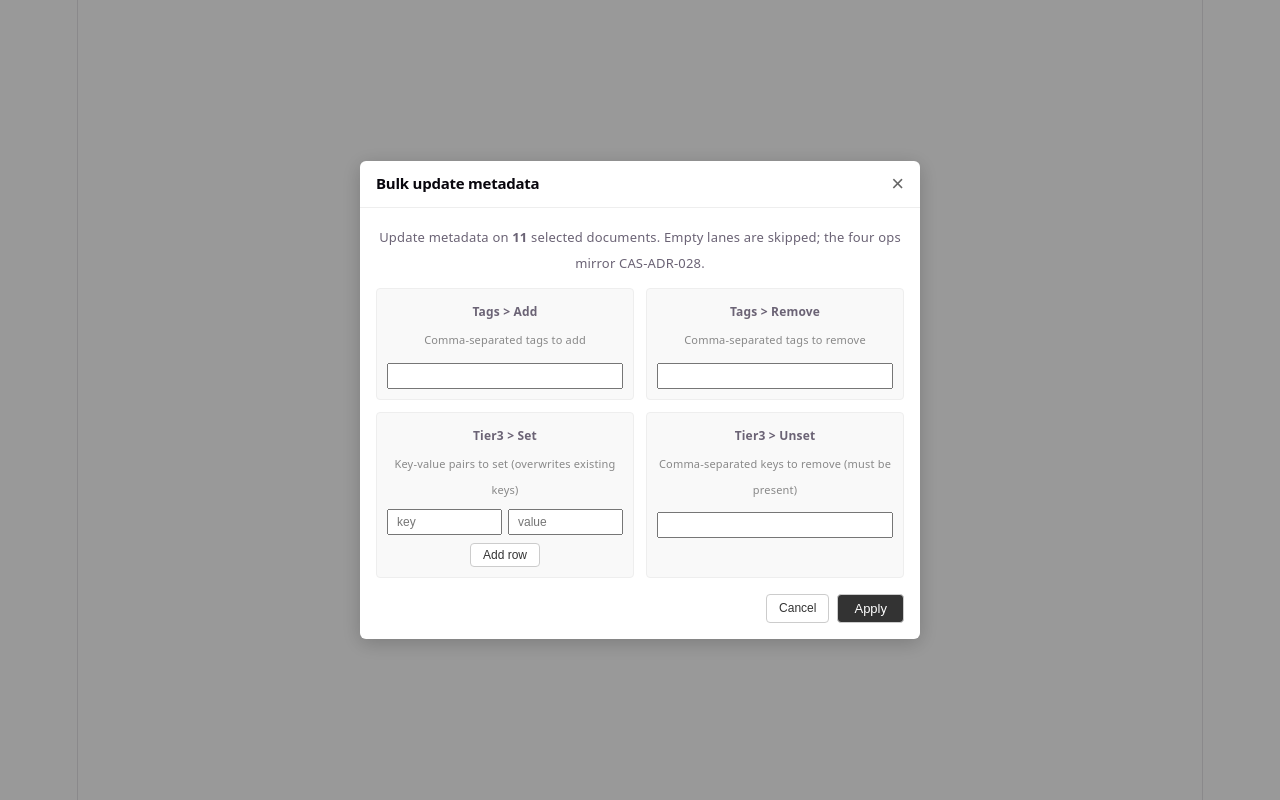
BulkMetadataDialog › shows confirmation step for selections > 10
This screenshot has width=1280, height=800.
Type "bulk-test" into the field named "Tags to add" at (505,376), box [387,362,623,388]
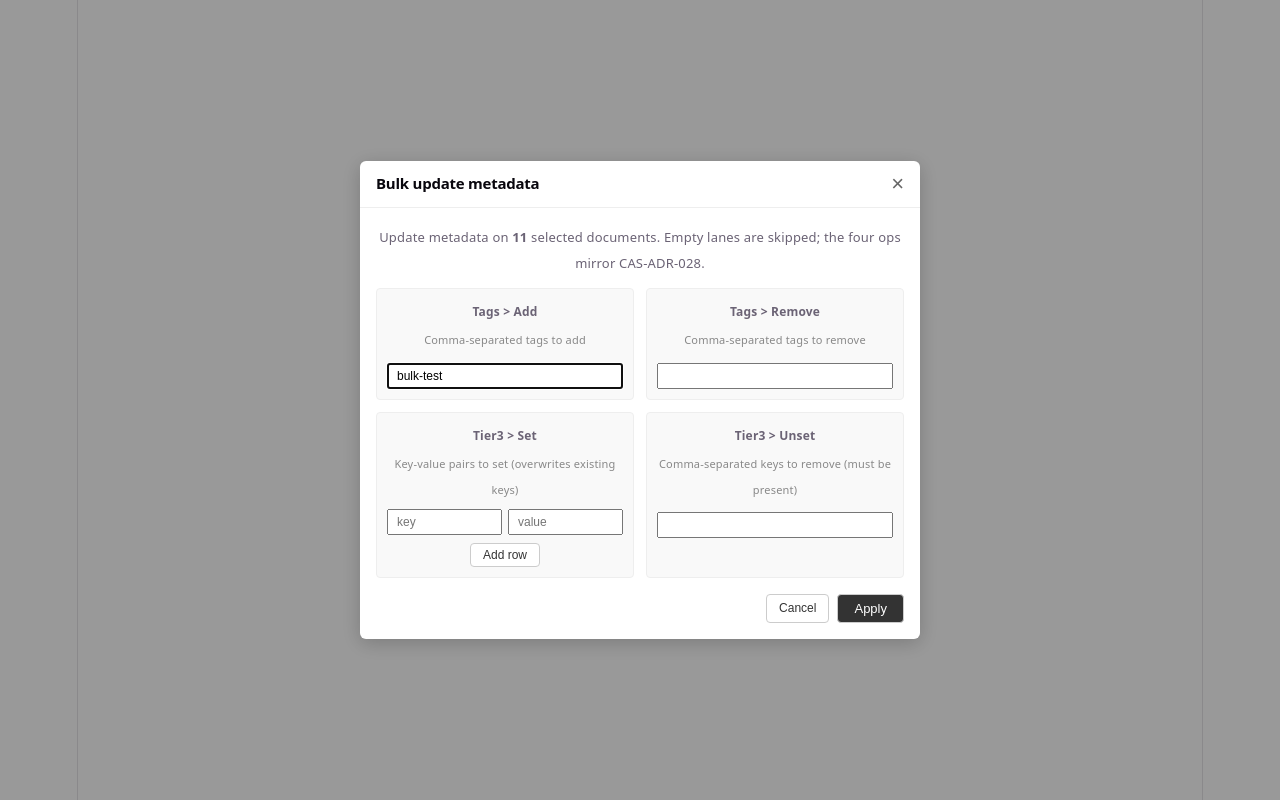
Click the button "Apply" at (871,608), box [838,594,904,623]
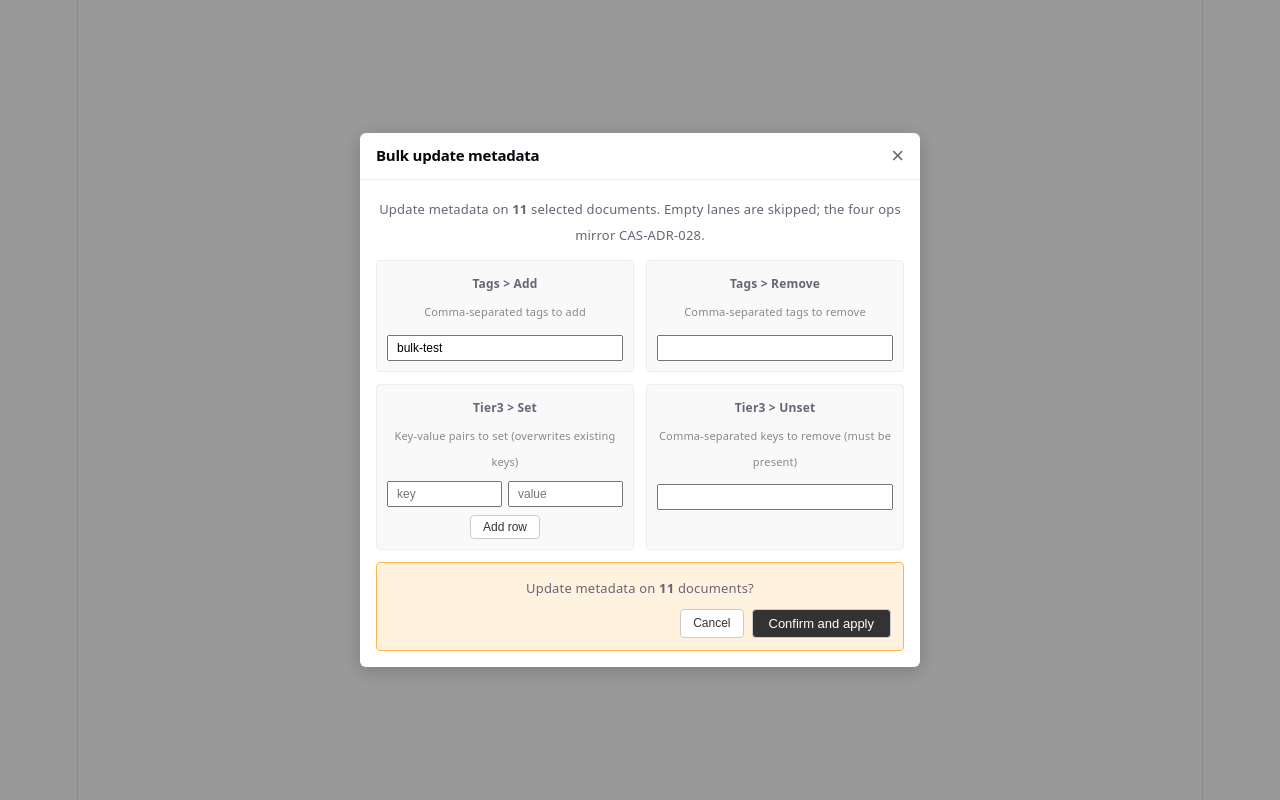
Check: the element with test id "bulk-metadata-confirm" shows "Update metadata on 11 documents", box [376,562,904,651]
